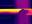Hotspot: (0, 9, 22, 13)
